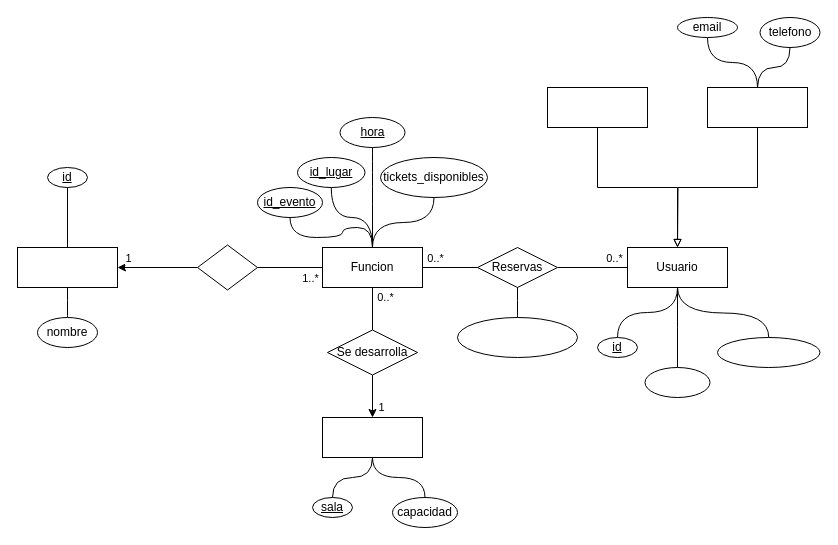
This 838x545 diagram has some shape labels left out. Here are the shapes that lost their labels. From the top down, the centre of each, then its label:
At (597,107): "Administrador".
At (757,107): "Espectador".
At (67,267): "Evento".
At (227,267): "Tiene".
At (517,337): "estado_confirmacion".
At (768,352): "contrasena_hash".
At (677,382): "username".
At (372,437): "Lugar".
